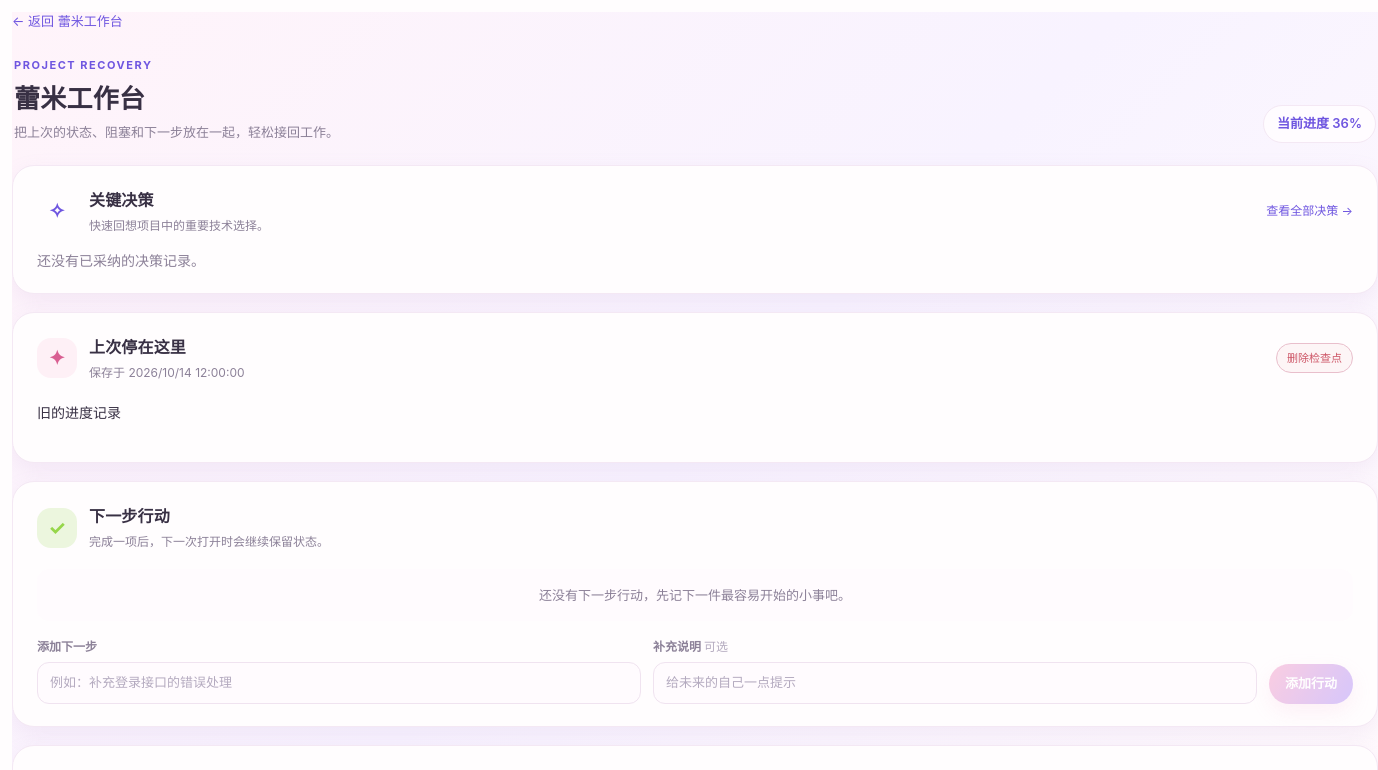
Test: RecoveryView › deletes the latest checkpoint and returns to the empty state
Step 1. Click the button with aria-label "删除最新检查点" → coordinates (1314, 358), box [1276,343,1353,373]
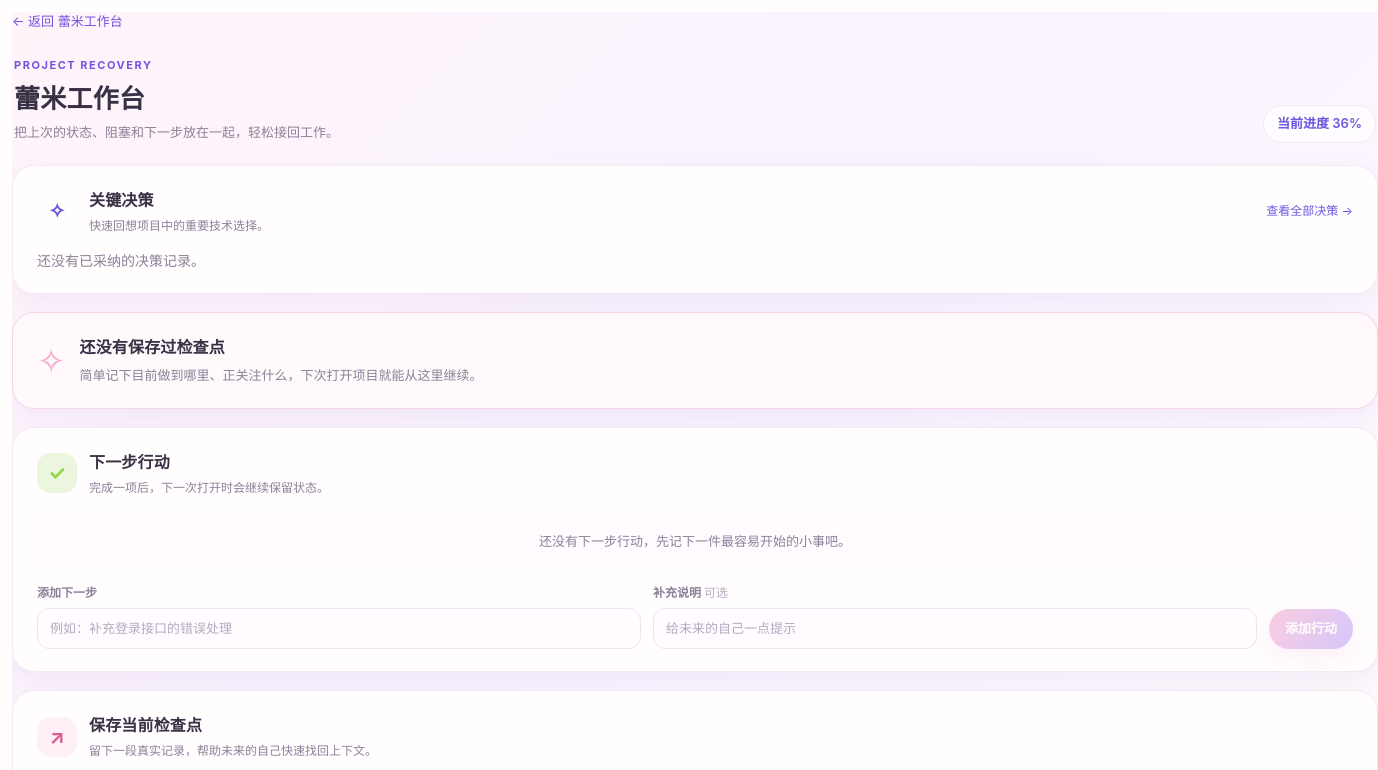
Check: the text "还没有保存过检查点" is shown, box [80,336,225,356]
